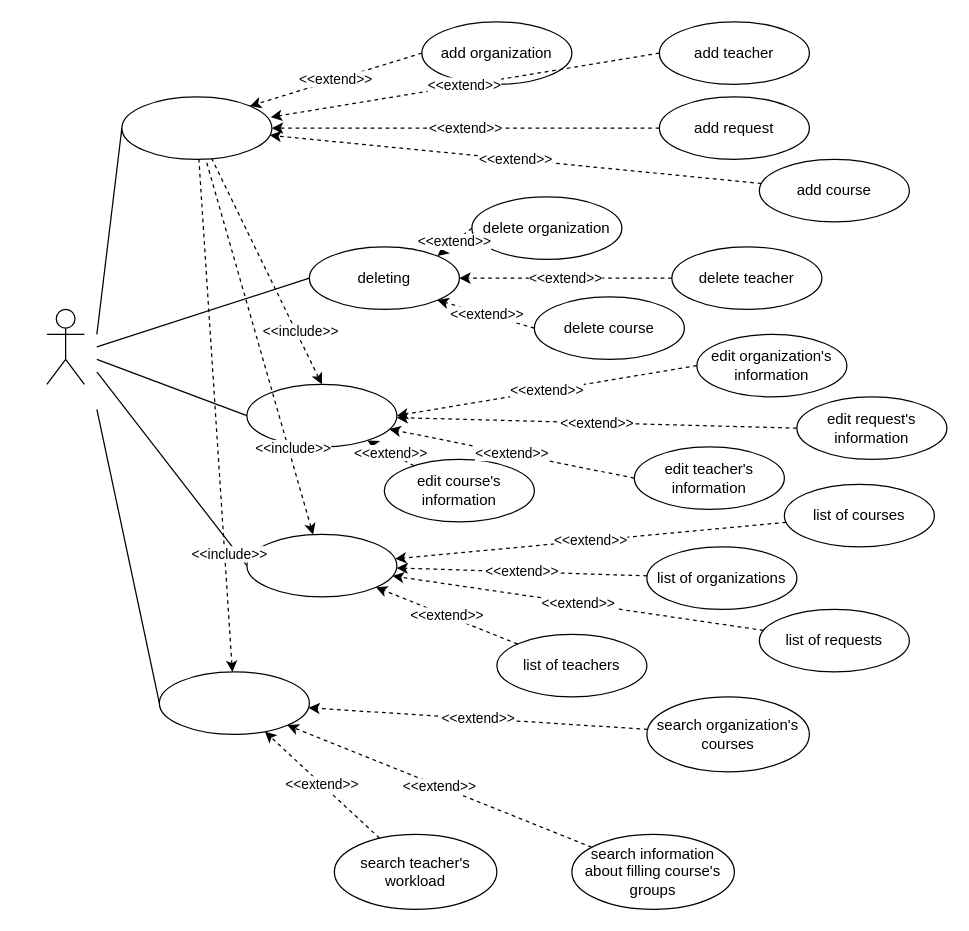
This 969x931 diagram has some shape labels left out. The shapes that lost their labels are listed below. From the top down, each one's centre as x and y in pixels, then its label:
At point 196,127: "adding".
At point 65,346: "Administrator".
At point 321,415: "editing".
At point 321,565: "viewing".
At point 233,702: "searching".
